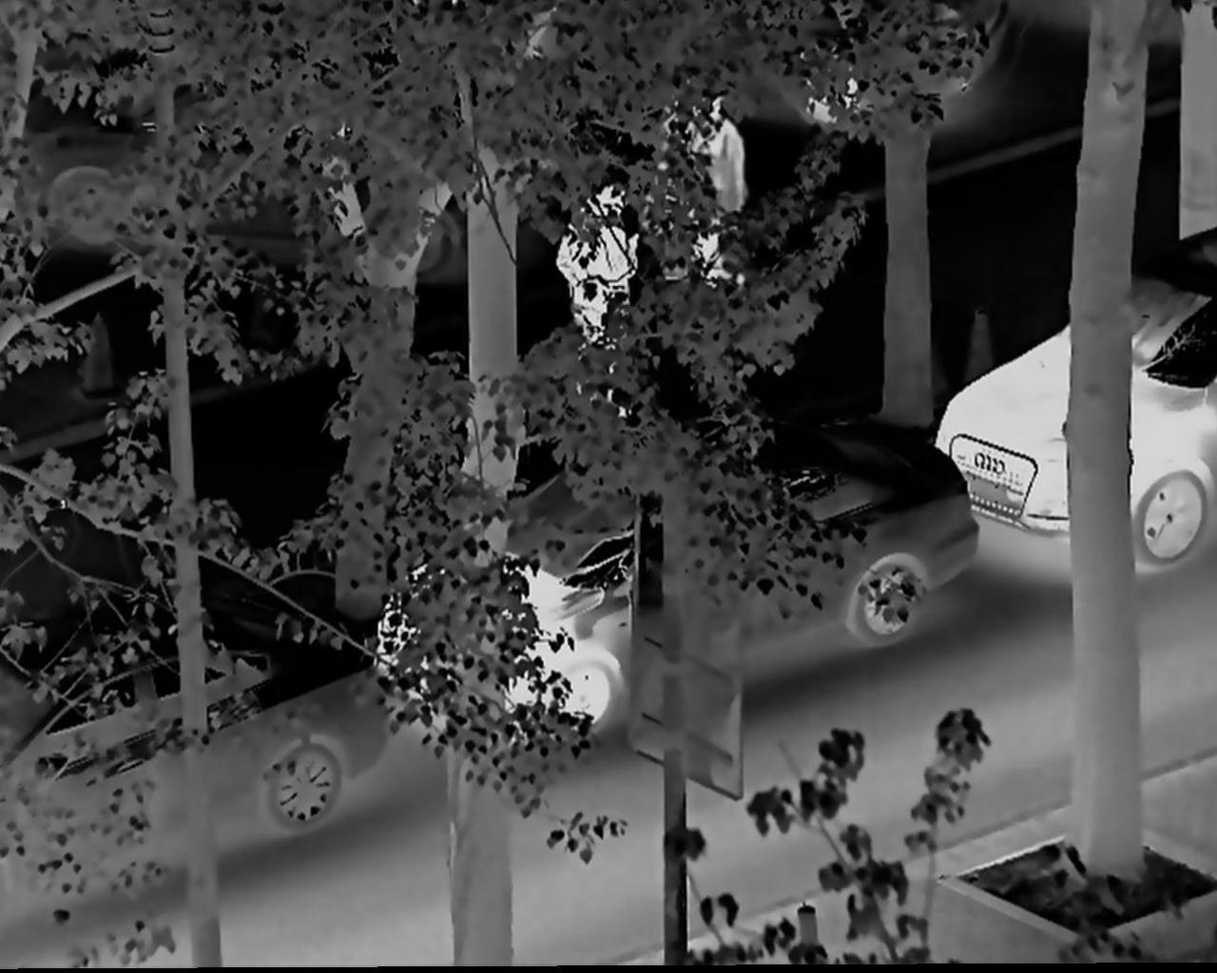person: (583, 178, 646, 365), (697, 87, 749, 290), (550, 193, 596, 375)
